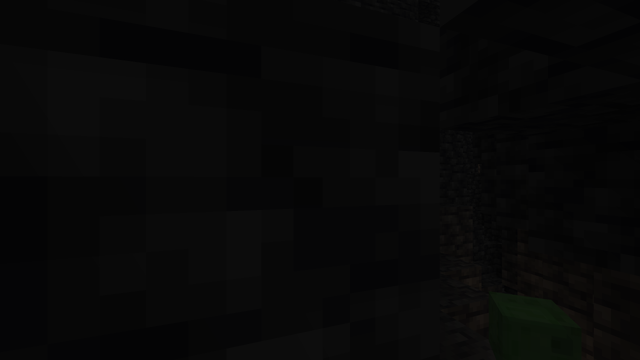slimes: (479, 288, 583, 357)
